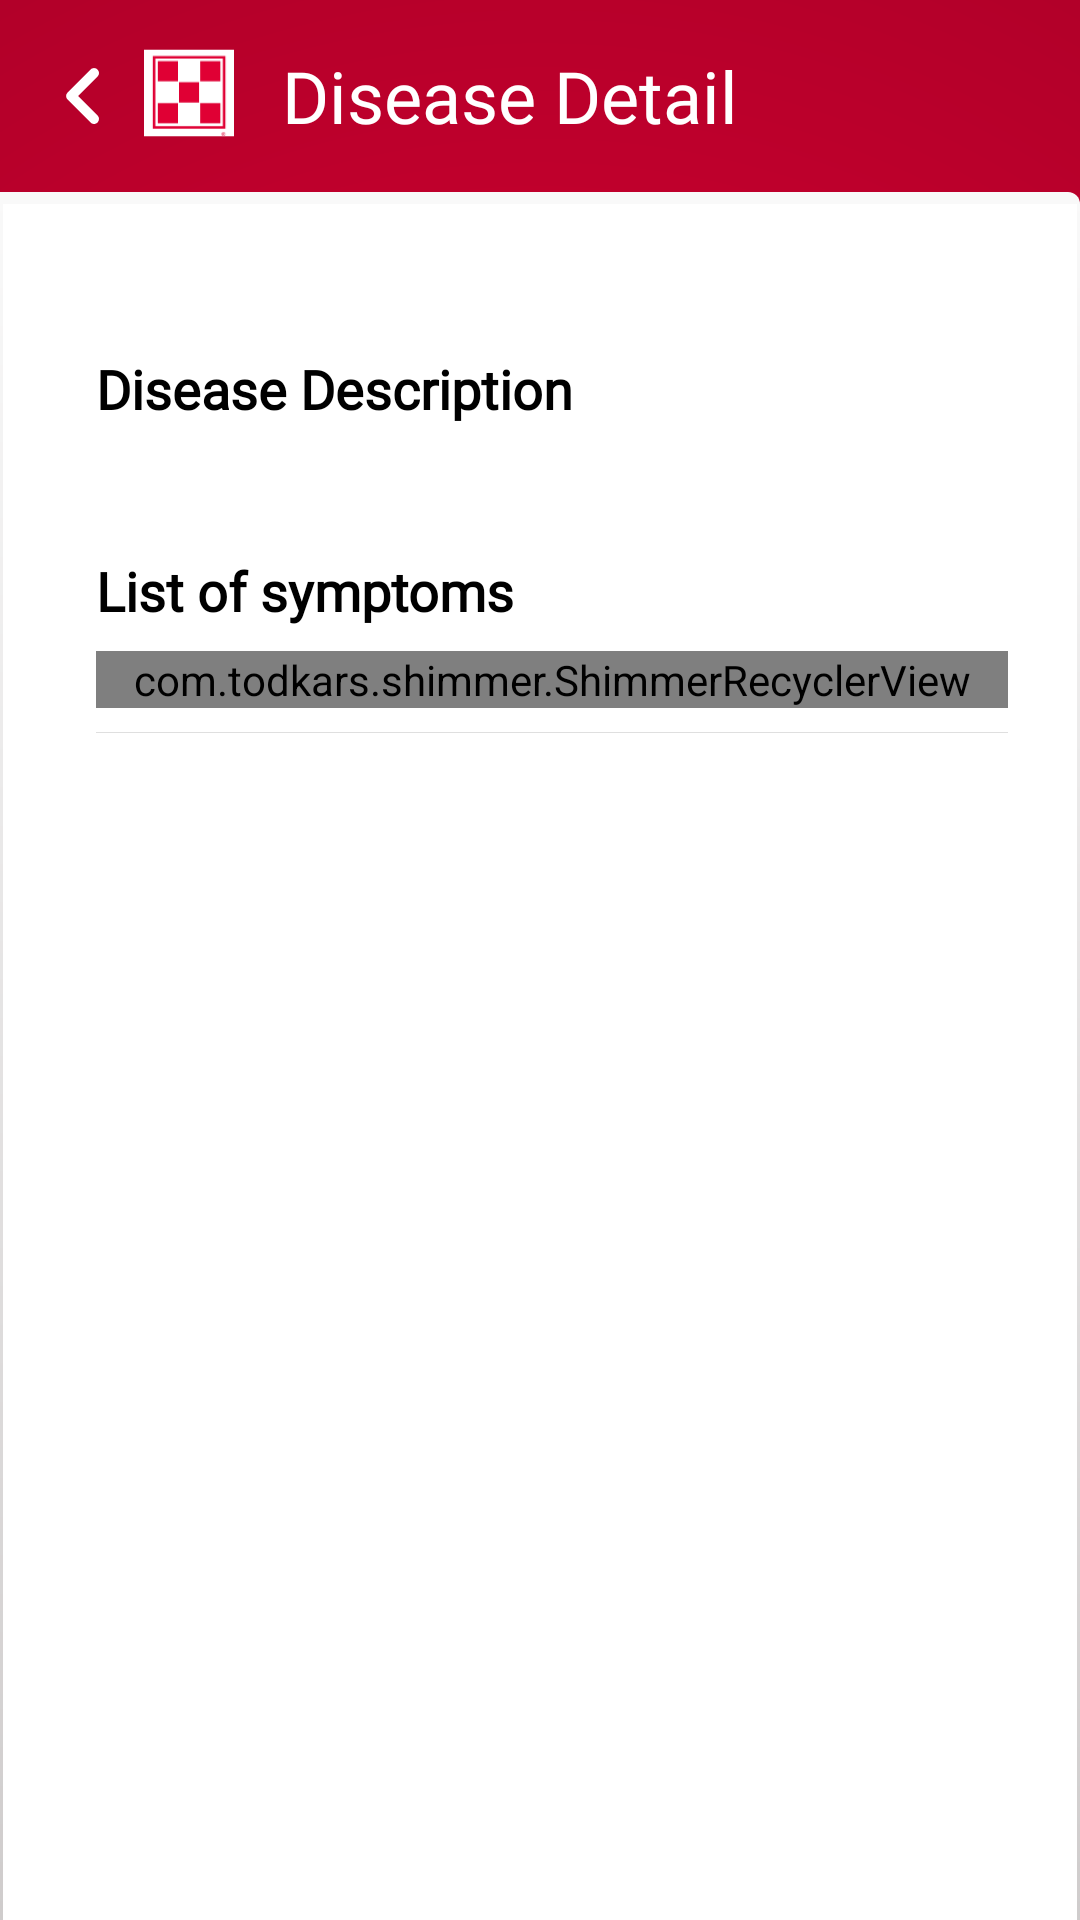

Screen size 1080×1920. Icon name, then its center in pixels as (x=x, y=y):
arrow left: (x=82, y=96)
